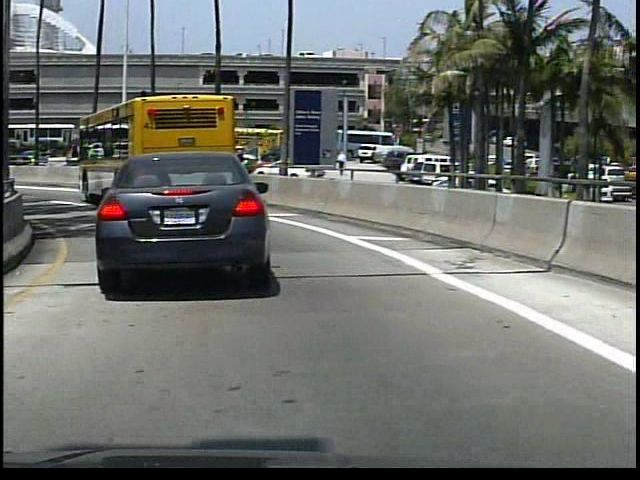person: (333, 149, 348, 179)
